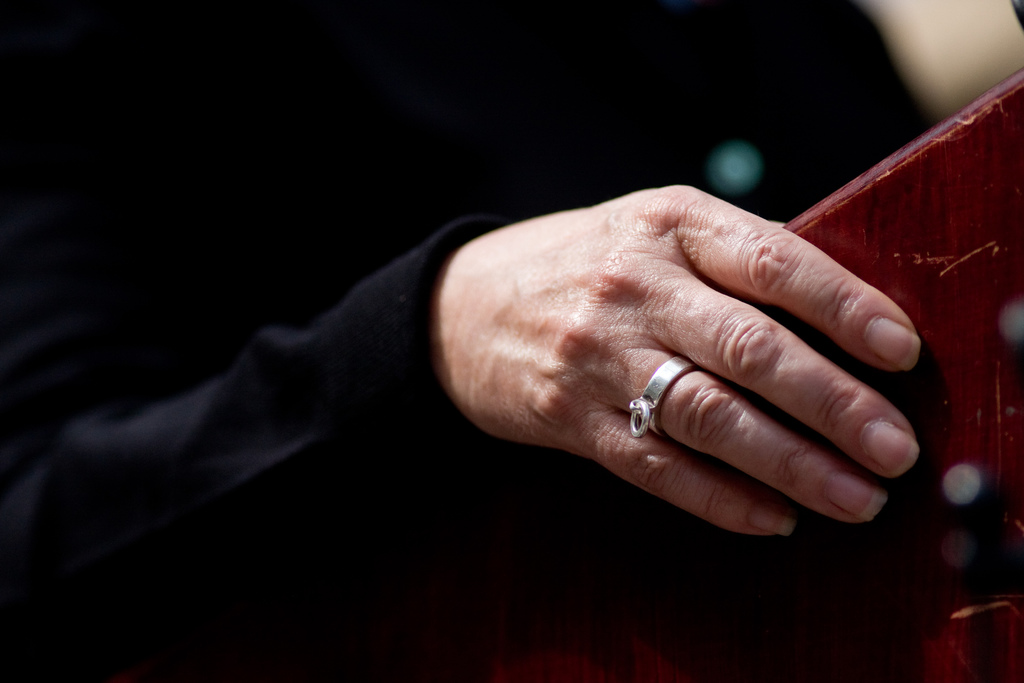Human_hand: (434, 176, 927, 544)
